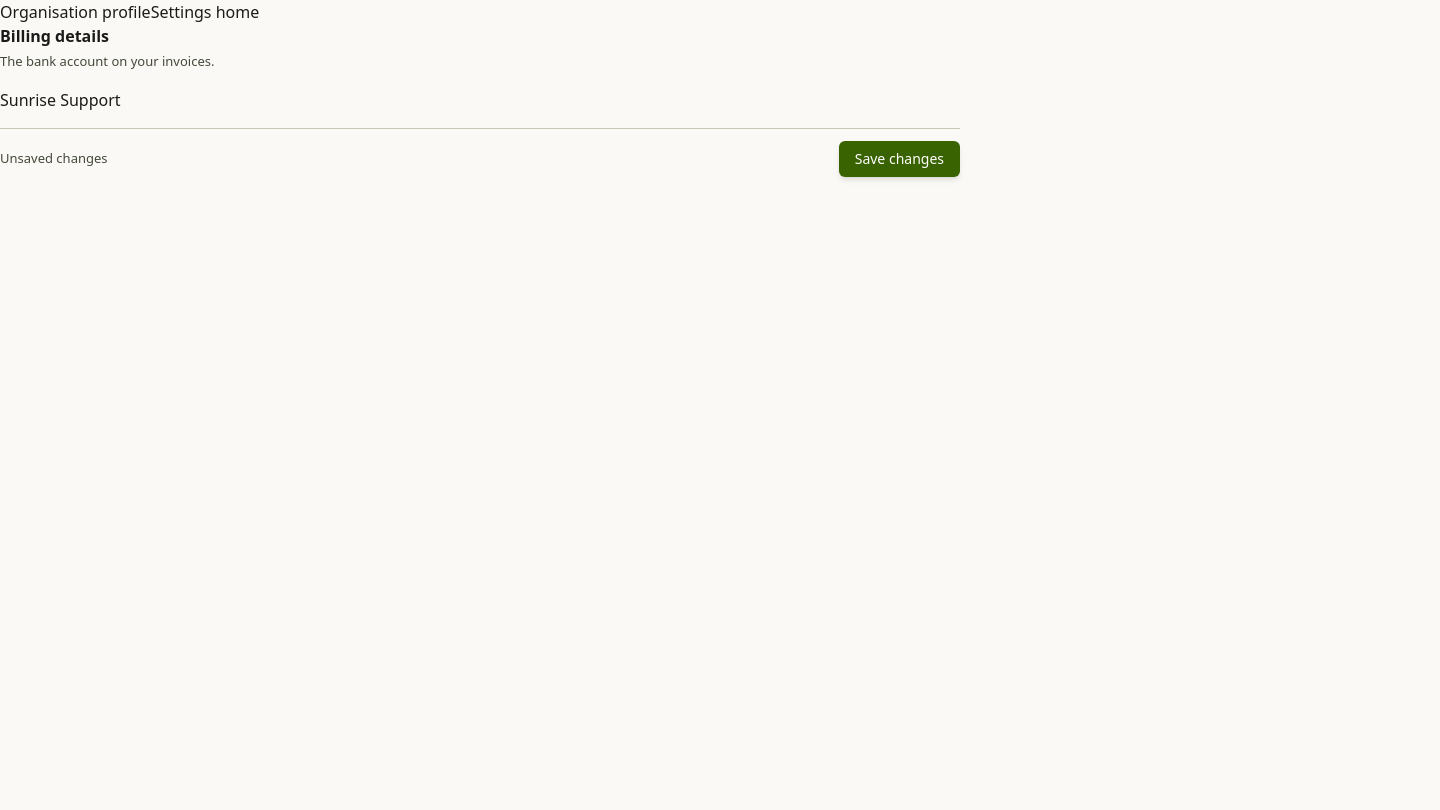
SettingsSection: switching section with unsaved changes › asks before bare /settings too (below md: false)
Click the link "Settings home". click: {"x": 205, "y": 12}
box: [151,1,259,23]
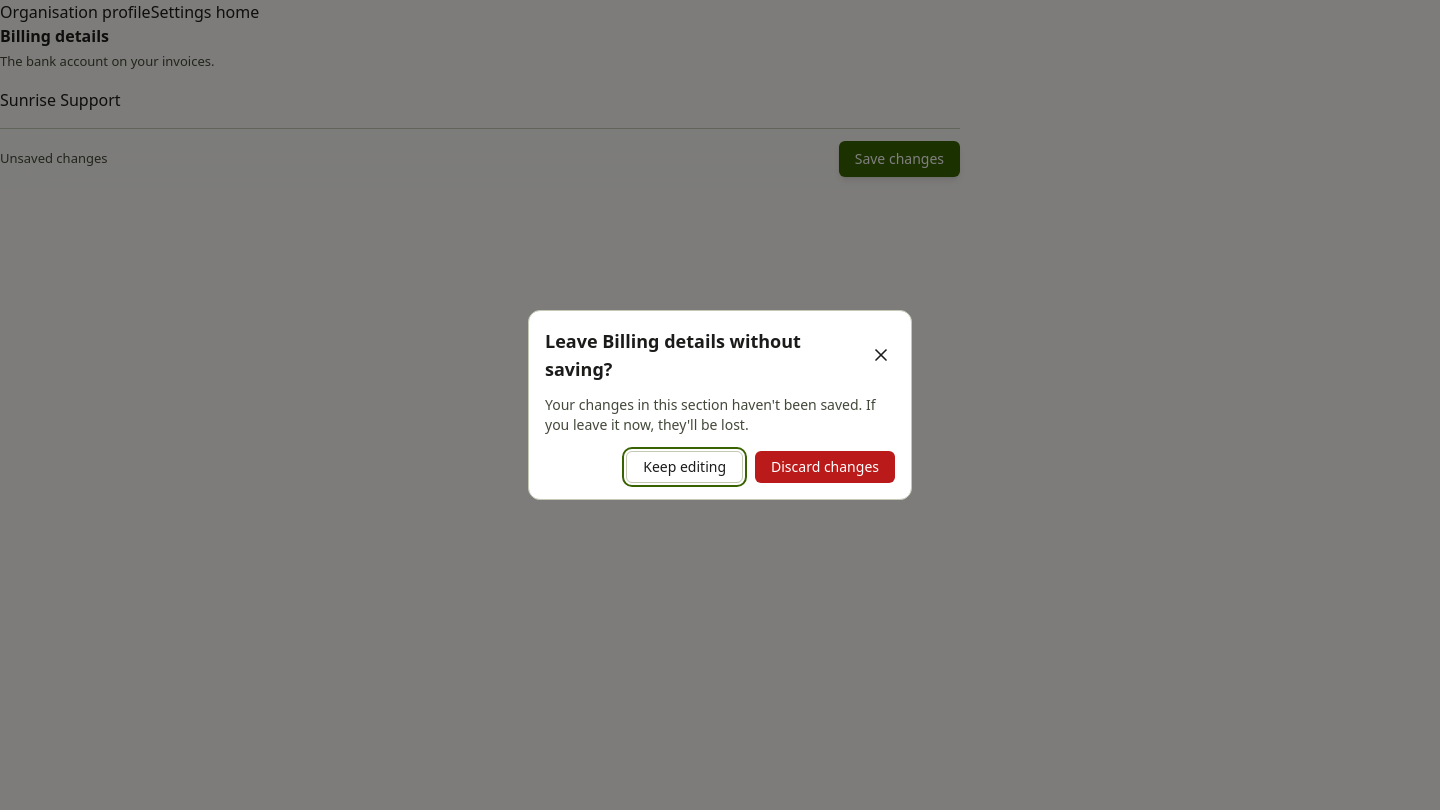
expect the dialog "Leave Billing details without saving?" is shown: met, box [528,310,912,500]
